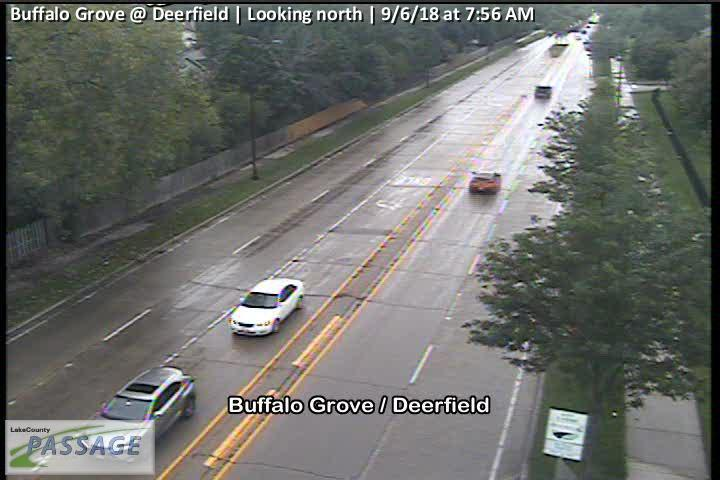Sedan: (81, 366, 194, 456), (229, 277, 306, 336), (468, 170, 502, 192), (534, 85, 554, 98)
